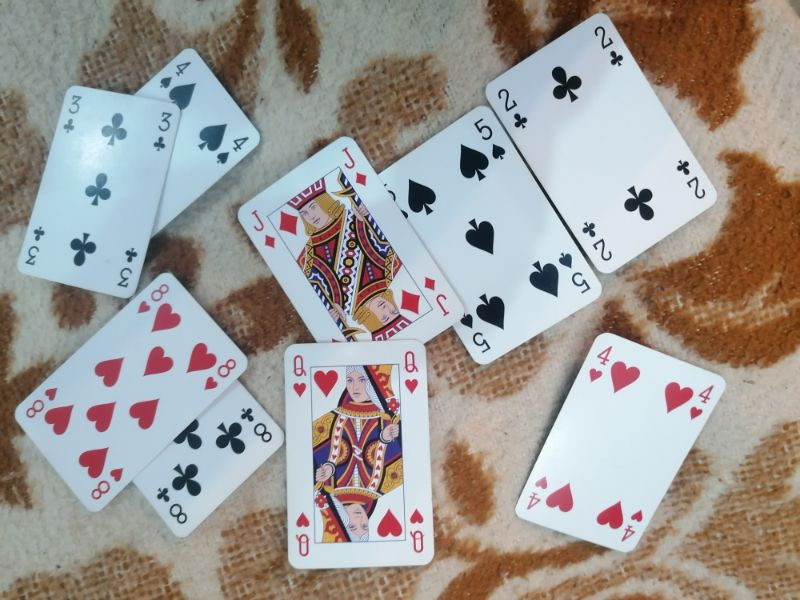2c: (493, 84, 530, 130), (590, 22, 626, 69), (580, 219, 614, 263), (674, 156, 707, 200)
3c: (149, 109, 177, 155), (114, 245, 140, 293), (22, 223, 48, 269), (60, 93, 86, 135)
4h: (587, 343, 616, 388), (688, 381, 719, 422), (524, 474, 554, 515), (619, 507, 646, 547)
4s: (214, 134, 253, 169), (156, 59, 194, 92)
5s: (472, 116, 510, 165), (556, 249, 594, 297), (459, 313, 493, 356)
8c: (153, 484, 191, 526), (240, 404, 275, 444)
8h: (201, 355, 238, 395), (24, 384, 62, 422), (88, 465, 127, 501), (135, 282, 172, 317)
Jd: (337, 145, 369, 188), (422, 274, 453, 318), (247, 207, 277, 250)
Qh: (293, 509, 315, 560), (406, 506, 428, 556), (401, 347, 421, 397), (290, 353, 311, 399)
